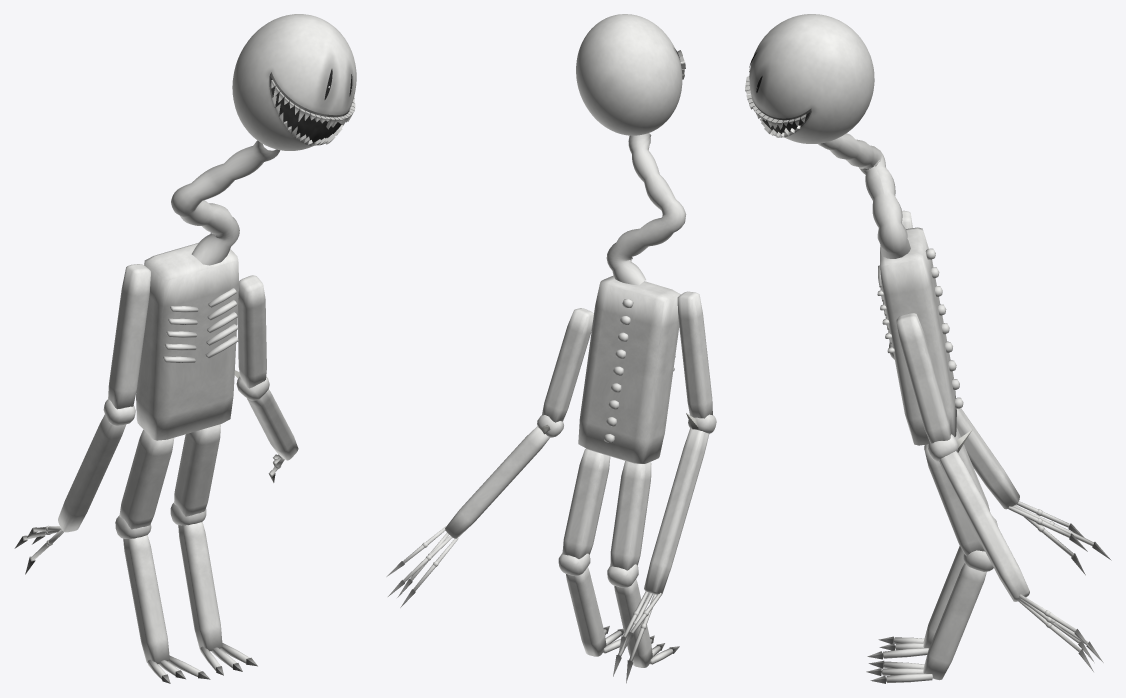
The model's file is monster.glb.
3 views of the same model, side by side, from view 1: azimuth 30°, elevation 25°; view 2: azimuth 150°, elevation 25°; view 3: azimuth 270°, elevation 25° (orthographic). The views are drawn at different scales.
Parts seen in each view (by area): view 1: Torso, Head, Neck, Shin_L, Shin_R, Forearm_R, Arm_R, Leg_R, Arm_L, Leg_L, Forearm_L; view 2: Torso, Head, Forearm_R, Neck, Forearm_L, Leg_R, Leg_L, Arm_R, Shin_L, Arm_L, Shin_R; view 3: Head, Torso, Forearm_L, Shin_L, Neck, Forearm_R, Arm_L, Shin_R, Leg_L.
Boxes of the visible parts, box(x1,y1,x2,y2) form: Torso: box(136, 242, 239, 440); Head: box(232, 14, 356, 150); Neck: box(171, 140, 279, 265); Shin_L: box(170, 503, 257, 675); Shin_R: box(115, 515, 210, 683); Forearm_R: box(14, 399, 135, 574); Arm_R: box(108, 264, 150, 409); Leg_R: box(119, 430, 174, 529); Arm_L: box(237, 275, 266, 388); Leg_L: box(174, 424, 220, 516); Forearm_L: box(234, 370, 298, 482); Torso: box(578, 275, 680, 463); Head: box(576, 14, 685, 135); Forearm_R: box(613, 413, 716, 683); Neck: box(606, 133, 686, 285); Forearm_L: box(386, 415, 563, 607); Leg_R: box(610, 461, 651, 570); Leg_L: box(562, 448, 610, 558); Arm_R: box(677, 291, 712, 418); Shin_L: box(558, 553, 624, 656); Arm_L: box(542, 308, 593, 422); Shin_R: box(607, 564, 679, 667); Head: box(745, 14, 874, 143); Torso: box(877, 227, 963, 445); Forearm_L: box(928, 429, 1103, 671); Shin_L: box(866, 550, 993, 683); Neck: box(818, 133, 910, 258); Forearm_R: box(889, 343, 1111, 575); Arm_L: box(896, 313, 951, 443); Shin_R: box(867, 516, 997, 659); Leg_L: box(924, 444, 984, 556).
Bounding box in the file's own units: 1.03 × 2.36 × 1.17.
9 materials, 7 textured.
